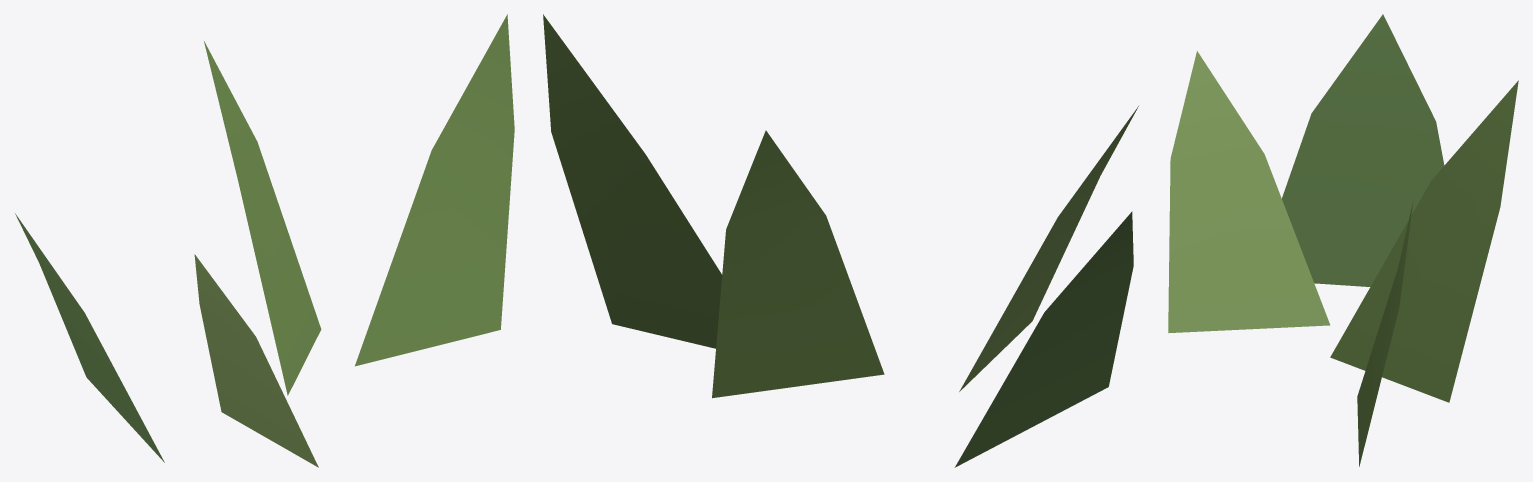
Rendered from grass_1.obj.
The picture shows the model from 3 angles, left to right: view 1: azimuth 30°, elevation 25°; view 2: azimuth 150°, elevation 25°; view 3: azimuth 270°, elevation 25°; orthographic projection. The views are drawn at different scales.
Visible parts, largest first — view 1: Cupped_blade_1, Cupped_blade_4, Cupped_blade_3, Cupped_blade_2; view 2: Cupped_blade_4, Cupped_blade_1, Cupped_blade_2, Cupped_blade_3; view 3: Cupped_blade_3, Cupped_blade_2, Cupped_blade_4, Cupped_blade_1.
Part boxes in pixels (x1,y1,x2,y2): Cupped_blade_1: [355, 14, 514, 366]; Cupped_blade_4: [204, 41, 321, 395]; Cupped_blade_3: [194, 254, 318, 467]; Cupped_blade_2: [15, 213, 164, 462]; Cupped_blade_4: [712, 130, 884, 398]; Cupped_blade_1: [543, 14, 722, 348]; Cupped_blade_2: [954, 211, 1133, 467]; Cupped_blade_3: [959, 106, 1138, 391]; Cupped_blade_3: [1168, 51, 1329, 333]; Cupped_blade_2: [1282, 14, 1444, 286]; Cupped_blade_4: [1330, 80, 1518, 402]; Cupped_blade_1: [1357, 201, 1413, 466].
Size of the model in its own units: 0.281 by 0.1518 by 0.1687.
